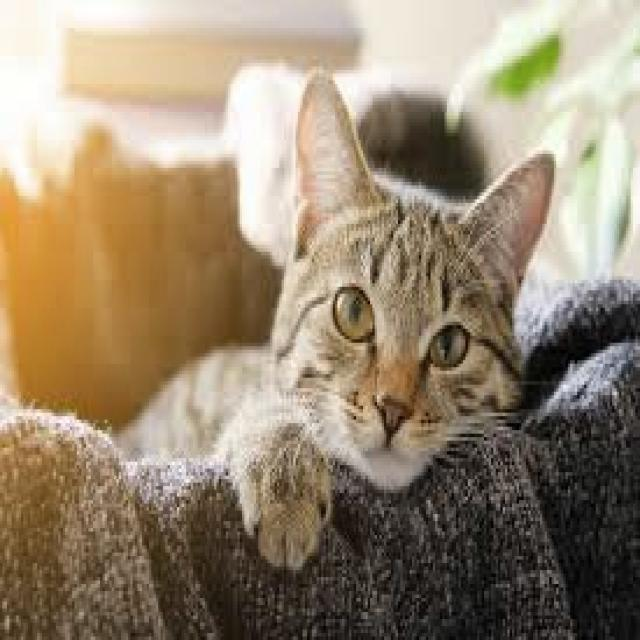cat: (119, 77, 554, 567)
